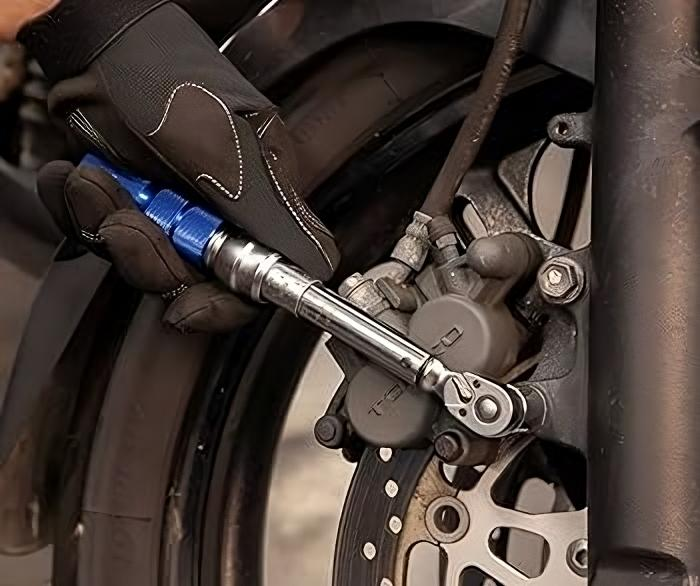Tool: (441, 369, 517, 439)
